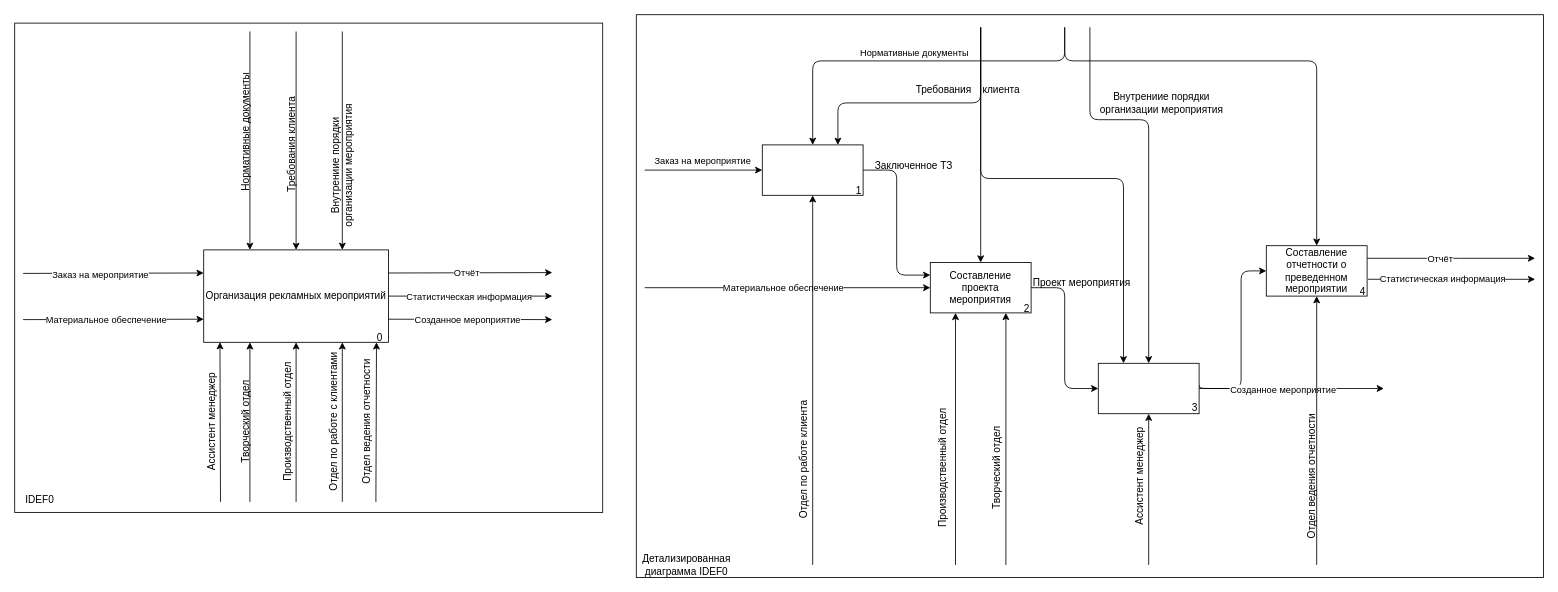
The diagram is 1558 pixels wide and 592 high, and some of its shapes have lost their labels. Here are the shapes that lost their labels. From the top down, the box of each, then its label:
(761, 144, 863, 195): Создание ТЗ
(1097, 362, 1199, 414): Проведение мероприятия
